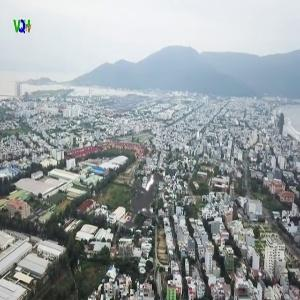drone: (86, 139, 213, 266)
